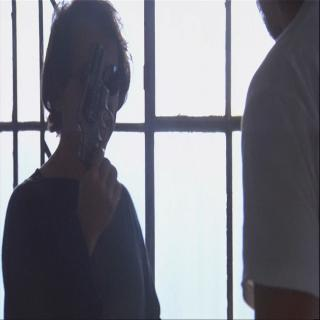gun: (74, 37, 124, 207)
